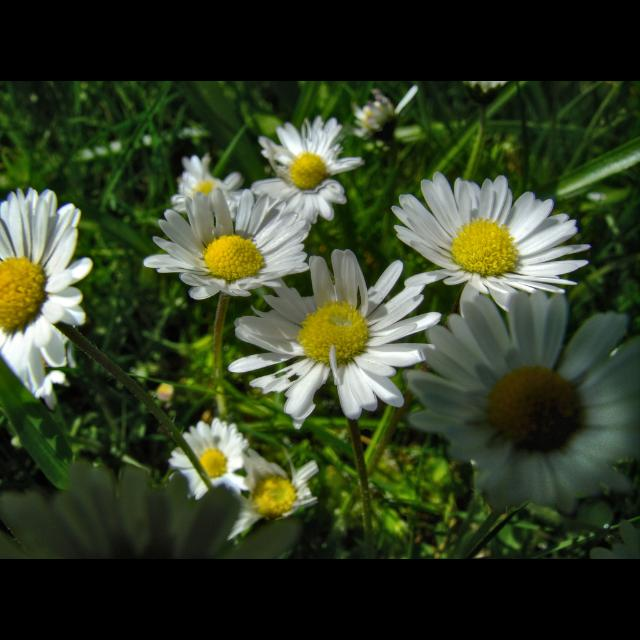Flower: (402, 294, 640, 512), (229, 249, 441, 431), (390, 170, 590, 318), (0, 462, 296, 560), (144, 183, 310, 304), (0, 188, 91, 406), (260, 115, 366, 227), (228, 451, 316, 537), (169, 420, 249, 502), (172, 156, 252, 222), (351, 92, 395, 142)
